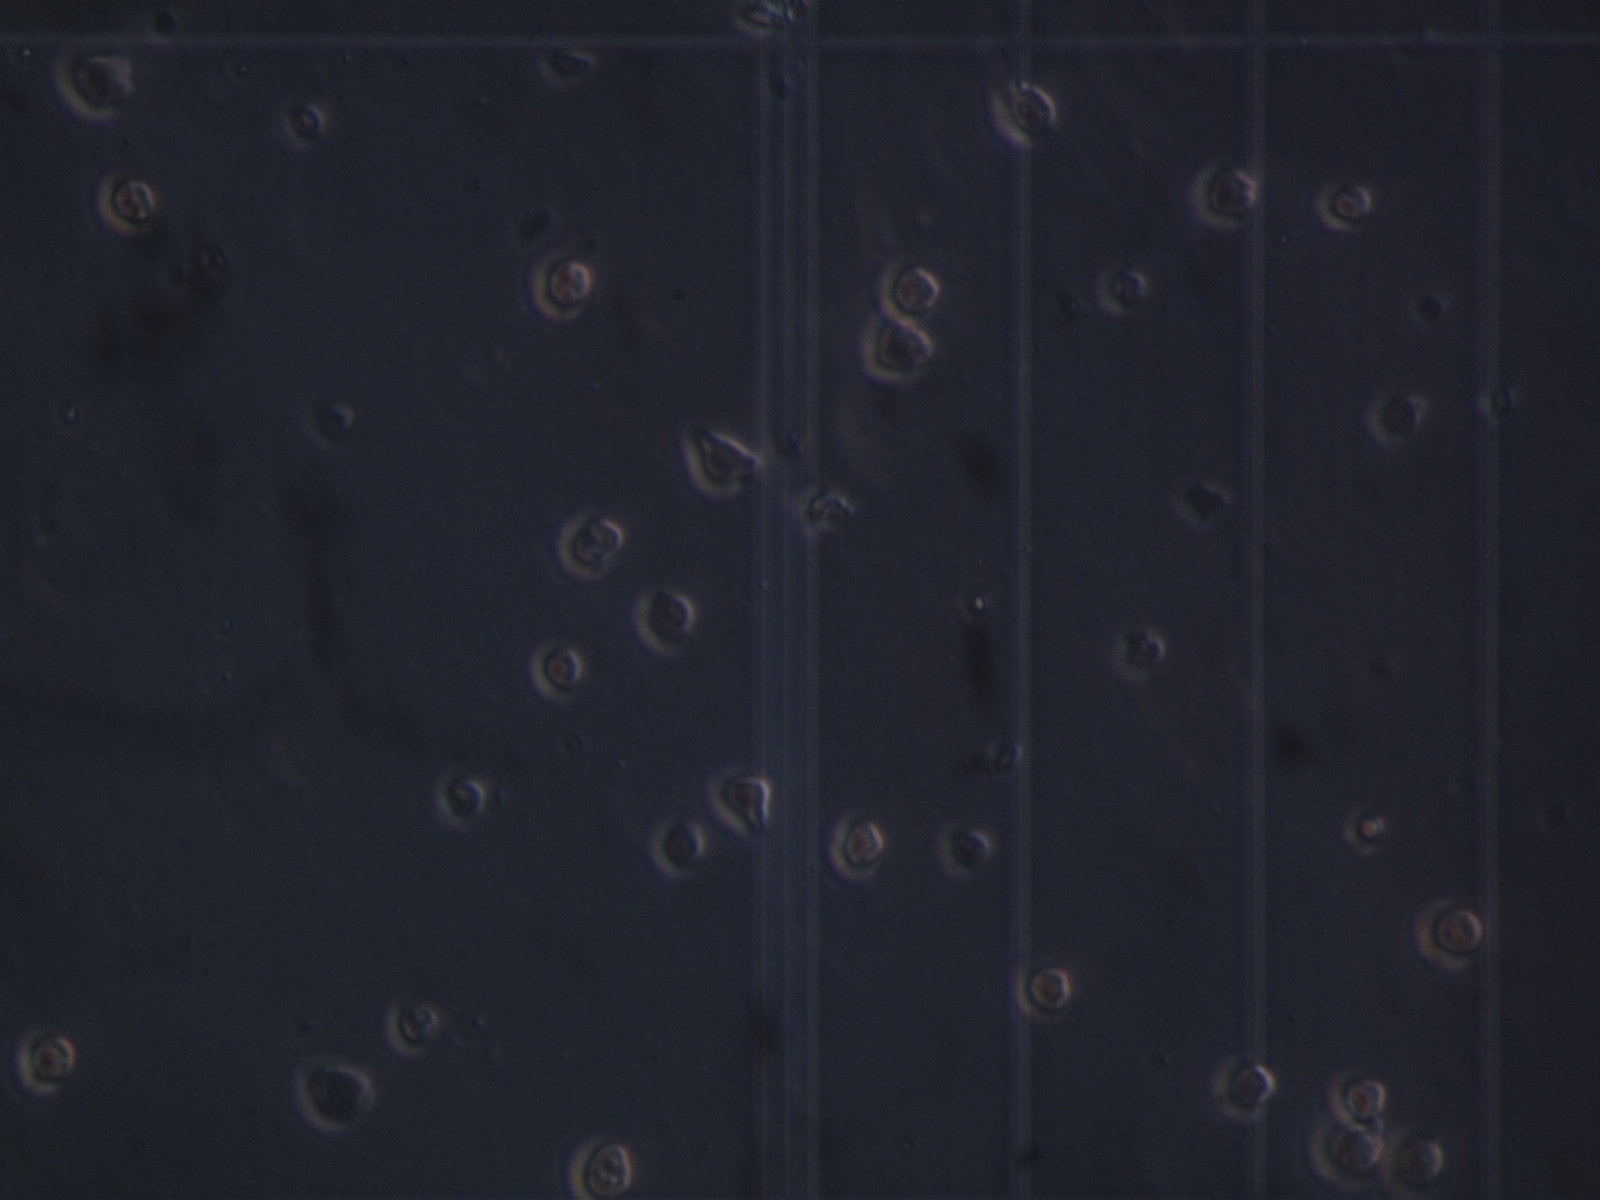hemo: (294, 1055, 375, 1137), (52, 43, 134, 122), (680, 421, 758, 500), (1305, 1116, 1387, 1190), (1412, 896, 1485, 973), (706, 766, 772, 845), (1008, 952, 1077, 1026), (554, 512, 626, 581), (1377, 1128, 1446, 1200), (864, 315, 936, 383), (986, 79, 1058, 147), (873, 258, 941, 326), (1212, 1050, 1277, 1121), (533, 245, 592, 321), (564, 1134, 634, 1200), (634, 586, 695, 659), (15, 1024, 76, 1098), (1192, 165, 1257, 233), (828, 811, 889, 882), (97, 168, 156, 241), (1363, 387, 1427, 449), (1328, 1068, 1387, 1129), (936, 819, 990, 882), (386, 998, 441, 1059), (653, 816, 706, 879), (1315, 176, 1372, 234), (529, 642, 585, 701), (433, 765, 486, 826), (1112, 628, 1167, 683), (1094, 267, 1149, 318), (282, 101, 325, 153), (733, 1, 786, 42)
